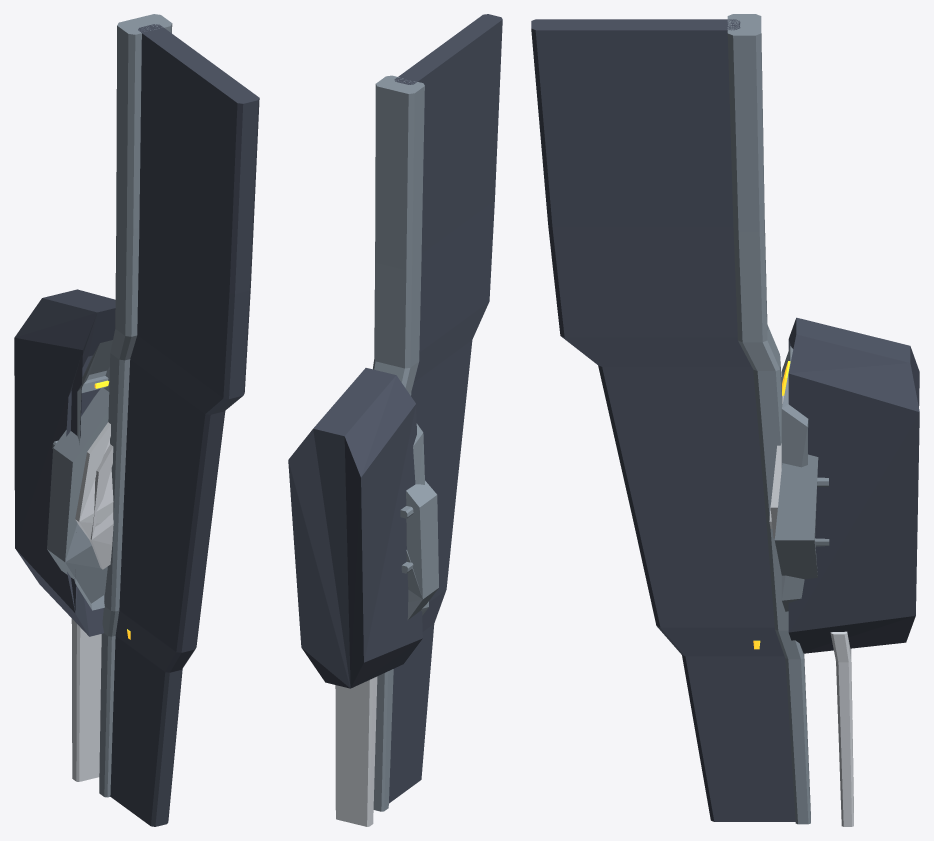
Rendered from BasicArmW_Right_Skel.glb.
3 views of the same model, side by side, from view 1: azimuth 30°, elevation 25°; view 2: azimuth 150°, elevation 25°; view 3: azimuth 270°, elevation 25° (orthographic). The views are drawn at different scales.
Parts seen in each view (by area): view 1: BasicArmW_Right_Skel_part00, BasicArmW_Right_Skel_part01, BasicArmW_Right_Skel_part02; view 2: BasicArmW_Right_Skel_part00, BasicArmW_Right_Skel_part01, BasicArmW_Right_Skel_part02; view 3: BasicArmW_Right_Skel_part00, BasicArmW_Right_Skel_part01, BasicArmW_Right_Skel_part02.
Part boxes in pixels (bbox=[...]): BasicArmW_Right_Skel_part00: bbox=[99, 14, 259, 826]; BasicArmW_Right_Skel_part01: bbox=[14, 289, 115, 636]; BasicArmW_Right_Skel_part02: bbox=[71, 618, 130, 781]; BasicArmW_Right_Skel_part00: bbox=[373, 14, 502, 811]; BasicArmW_Right_Skel_part01: bbox=[288, 368, 438, 688]; BasicArmW_Right_Skel_part02: bbox=[335, 676, 377, 826]; BasicArmW_Right_Skel_part00: bbox=[531, 14, 810, 824]; BasicArmW_Right_Skel_part01: bbox=[769, 317, 919, 653]; BasicArmW_Right_Skel_part02: bbox=[753, 631, 853, 826].
Bounding box in the file's own units: 2.19 × 14.76 × 6.55.
